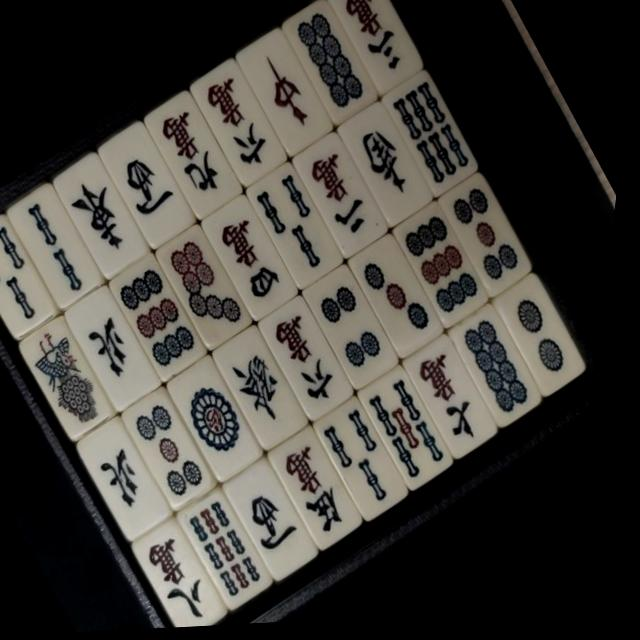hdg: (217, 331, 320, 449)
hdr: (233, 32, 341, 156)
hwe: (52, 155, 155, 273)
hwn: (69, 291, 170, 407), (84, 424, 185, 539)
hws: (340, 109, 442, 226)
hww: (97, 124, 203, 245), (231, 464, 333, 581)
sb1: (22, 320, 126, 439)
sb2: (7, 186, 114, 309)
sb3: (245, 166, 355, 293), (320, 404, 424, 522), (0, 217, 67, 335)
sb5: (364, 375, 469, 493)
sb6: (381, 76, 488, 199)
sb9: (186, 493, 287, 610)
sc2: (293, 139, 394, 256)
sc3: (321, 0, 428, 98)
sc4: (202, 197, 308, 319)
sc5: (277, 437, 377, 550)
sc6: (187, 62, 296, 189), (263, 301, 367, 422)
sc7: (407, 342, 513, 463)
sc8: (142, 523, 245, 632)
sc9: (142, 92, 253, 219)
sd1: (170, 361, 276, 480)
sd2: (499, 286, 598, 399)
sd3: (350, 240, 455, 360)
sd4: (308, 272, 410, 389)
sd5: (126, 392, 230, 511), (440, 180, 542, 299)
sd7: (157, 229, 265, 353)
sd8: (278, 1, 386, 126), (454, 313, 558, 433)
sd9: (110, 259, 218, 381), (395, 211, 500, 328)
